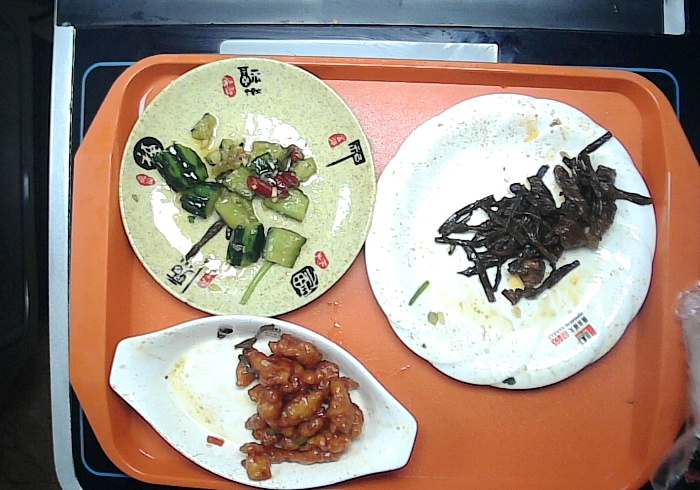NLDX-Bai_Zhe_Yuan_Pan: (362, 86, 659, 395)
NLDX-Fu_Zi_Yuan_Pan: (113, 53, 380, 323)
NLDX-Yu_Pan: (106, 312, 420, 490)
